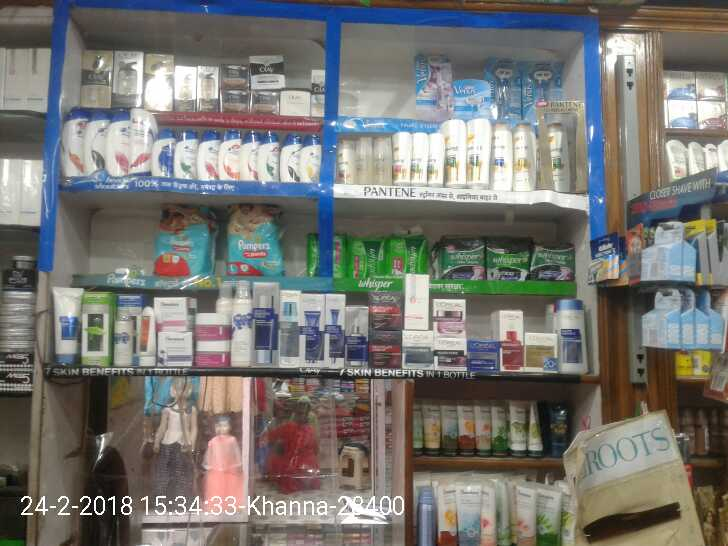gillete: (586, 234, 628, 292)
venus: (417, 55, 449, 120), (489, 59, 518, 121), (523, 59, 558, 103), (453, 81, 488, 118)
